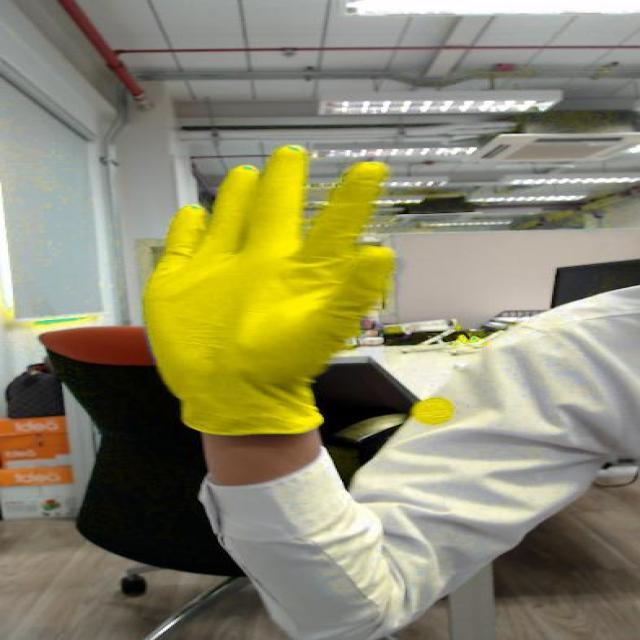gloved_hand: (121, 114, 446, 400)
